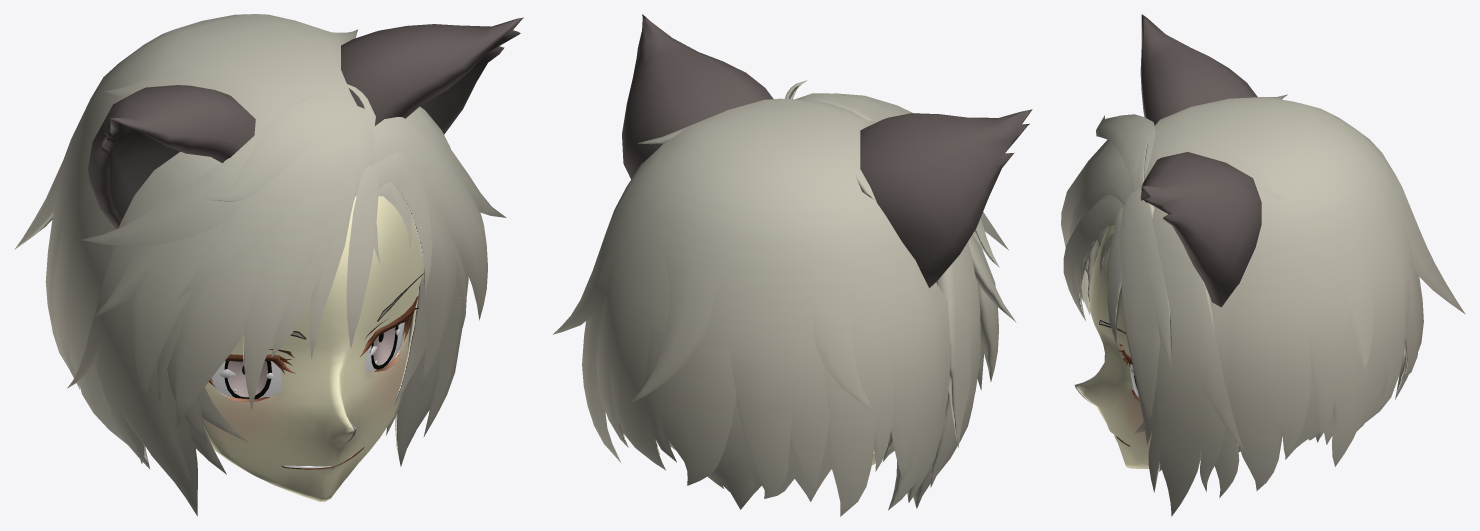
The model's file is yuko_head0331.FBX.
The picture shows the model from 3 angles, left to right: view 1: azimuth 30°, elevation 25°; view 2: azimuth 150°, elevation 25°; view 3: azimuth 270°, elevation 25°; orthographic projection. The views are drawn at different scales.
Visible parts, largest first — view 1: yuko_hair, yuko_head, yuko_eyeBall, yuko_eyeline; view 2: yuko_hair; view 3: yuko_hair, yuko_head.
Boxes of the visible parts, x1,y1,x2,y2 form: yuko_hair: [14, 14, 523, 516]; yuko_head: [202, 196, 422, 502]; yuko_eyeBall: [211, 322, 404, 399]; yuko_eyeline: [209, 296, 418, 401]; yuko_hair: [553, 14, 1032, 516]; yuko_hair: [1061, 14, 1465, 516]; yuko_head: [1077, 225, 1200, 468].
Bounding box in the file's own units: 24.32 × 24.43 × 23.95.
